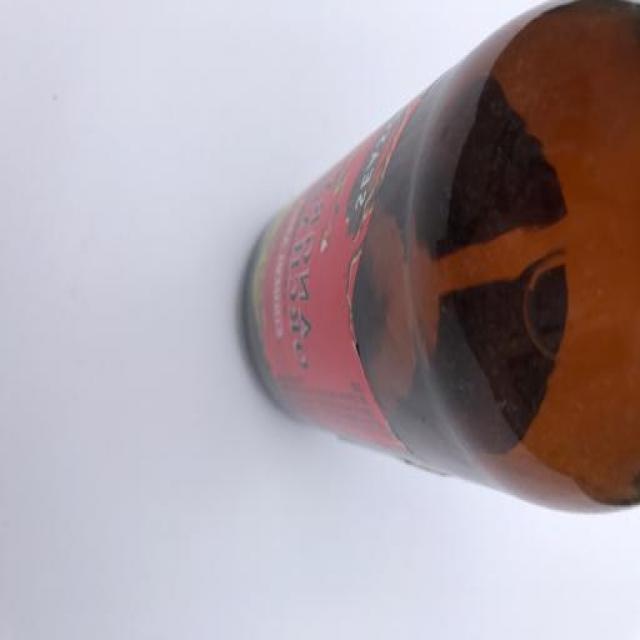glass: (239, 0, 640, 513)
